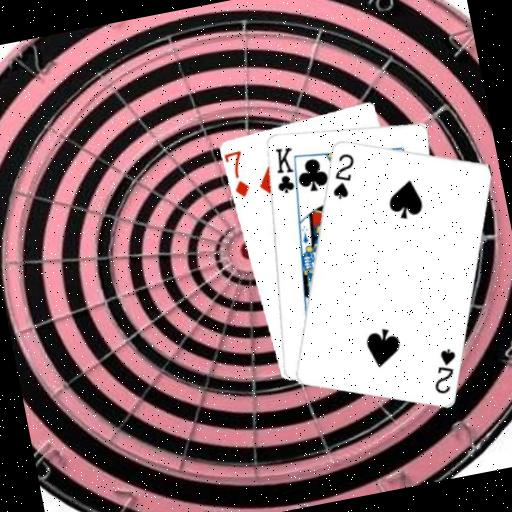2S: (323, 148, 363, 202), (424, 343, 464, 397)
7D: (222, 147, 253, 201)
KC: (267, 142, 306, 202)
